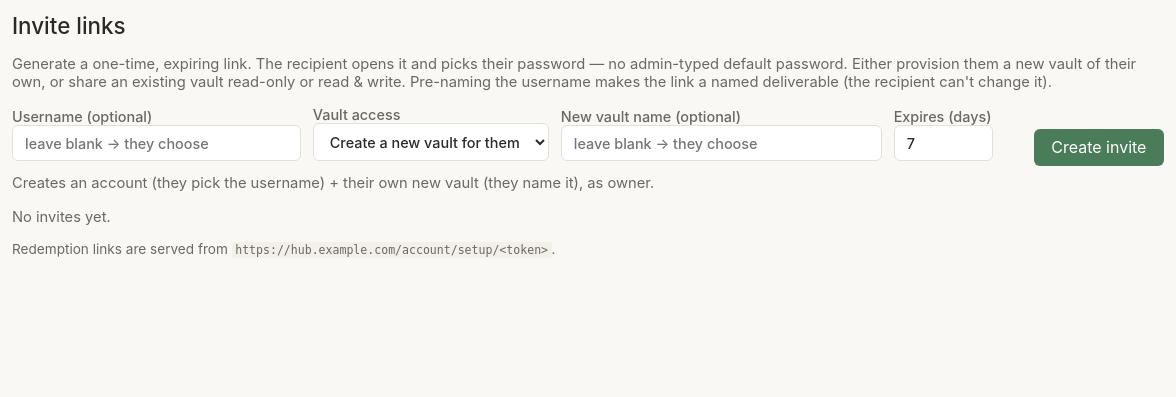
Test case: InvitesSection — form modes › submits a pre-named read-only shared-vault invite (the Adam/Jonathan shape)
The image size is (1176, 397).
Expected: the text "No invites yet." is shown, [12, 208, 111, 226]
Step 1. Type "jonathan" into the field labelled "Username (optional)" → (156, 143), box [12, 125, 301, 161]
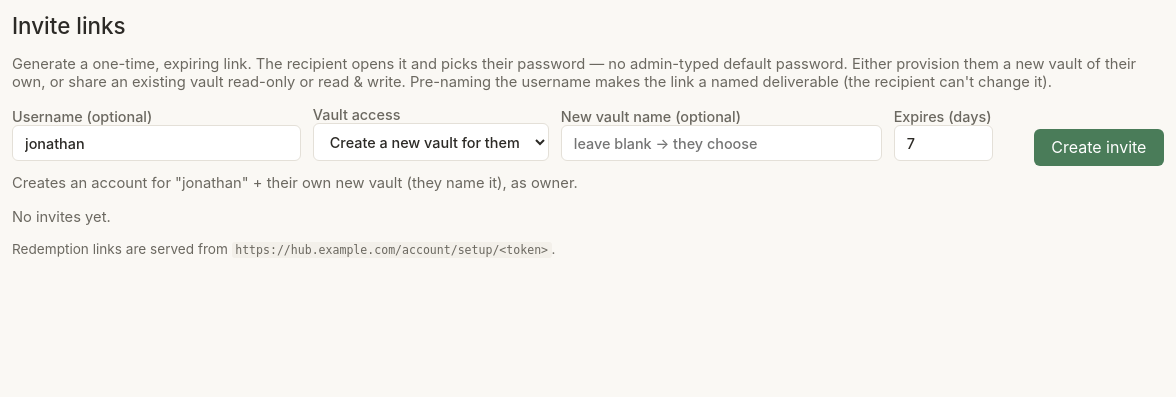
Step 2. Select "Share an existing vault" in the dropdown labelled "Vault access" → (431, 142), box [313, 123, 549, 161]
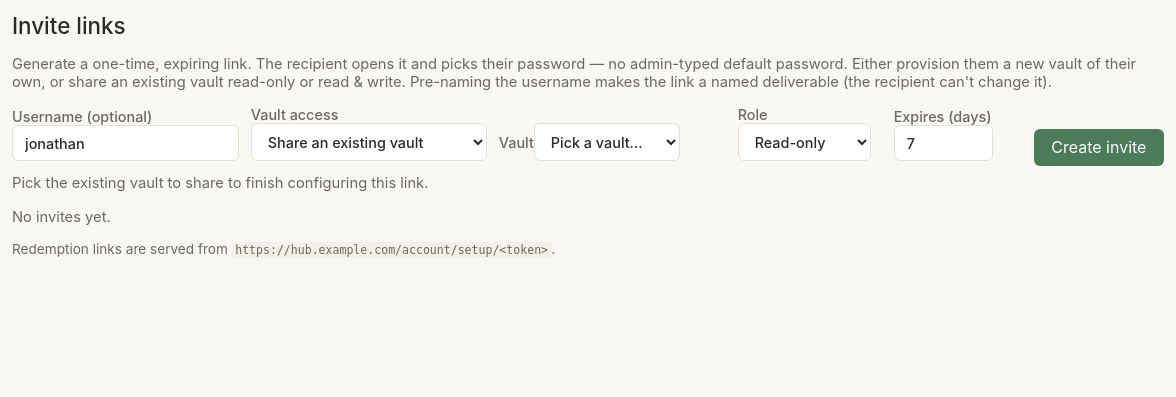
Step 3. Select "jonathan-vault" in the dropdown labelled "Vault" → (607, 142), box [534, 123, 680, 161]
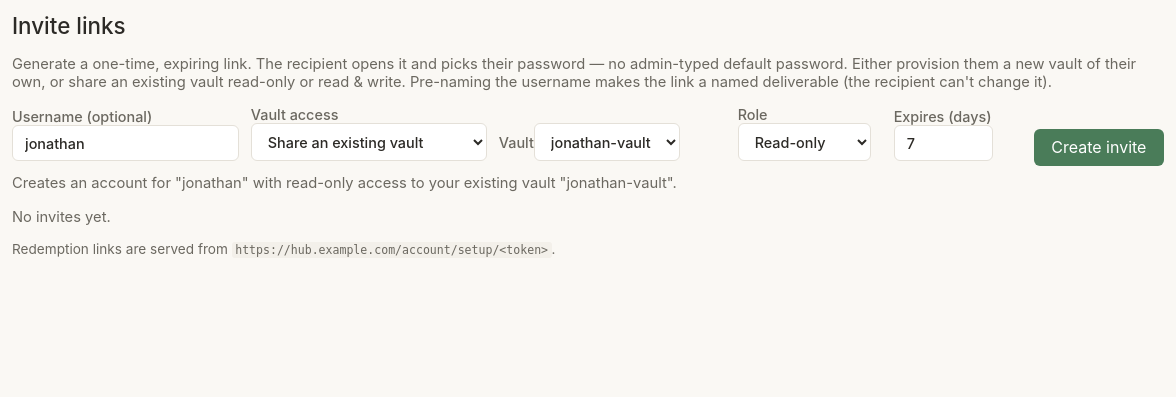
Step 4. Select "Read-only" in the dropdown labelled "Role" → (804, 142), box [738, 123, 871, 161]
Step 5. Click the button "Create invite" → (1099, 147), box [1034, 128, 1164, 166]
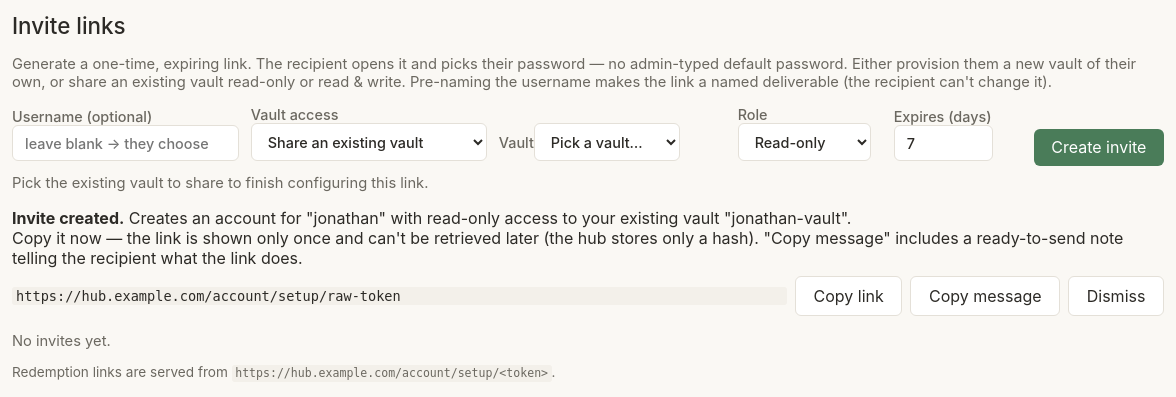
Result: the text "https://hub.example.com/account/setup/raw-token" is shown at [12, 286, 787, 305]
